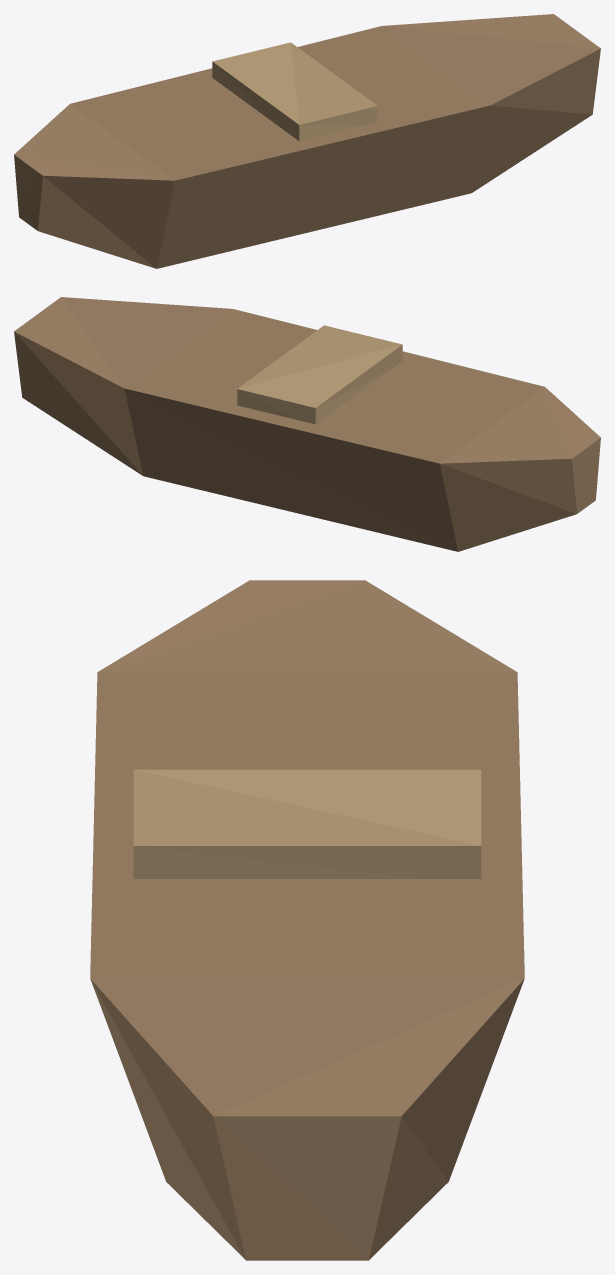
The model's file is wooden_boat.glb.
The picture shows the model from 3 angles, top to bottom: view 1: azimuth 30°, elevation 25°; view 2: azimuth 150°, elevation 25°; view 3: azimuth 270°, elevation 25°; orthographic projection. The views are drawn at different scales.
Visible parts, largest first — view 1: boat_hull, seat; view 2: boat_hull, seat; view 3: boat_hull, seat.
Part boxes in pixels (left/top/right/bottom): boat_hull: left=14, top=14, right=600, bottom=268; seat: left=212, top=42, right=377, bottom=141; boat_hull: left=14, top=297, right=600, bottom=551; seat: left=237, top=325, right=402, bottom=424; boat_hull: left=90, top=580, right=524, bottom=1260; seat: left=133, top=769, right=481, bottom=878.
Bounding box in the file's own units: 1.75 × 0.36 × 0.6.
